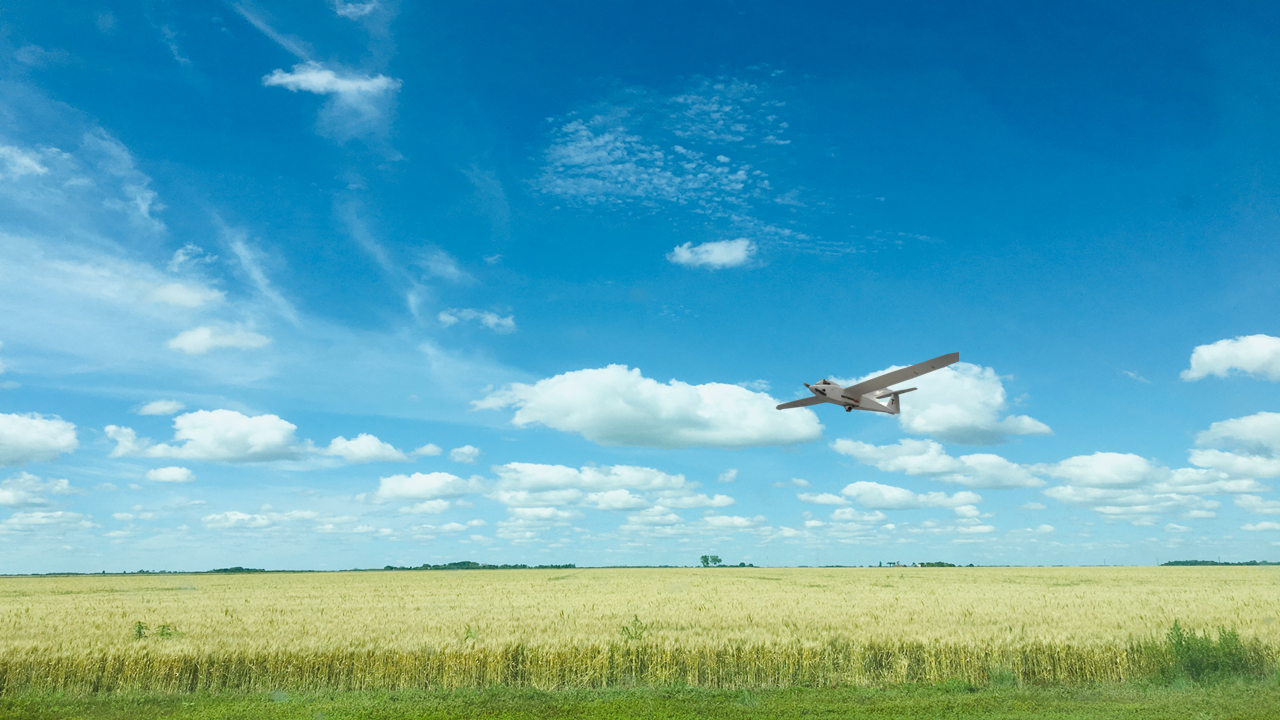military drone: (775, 352, 959, 415)
